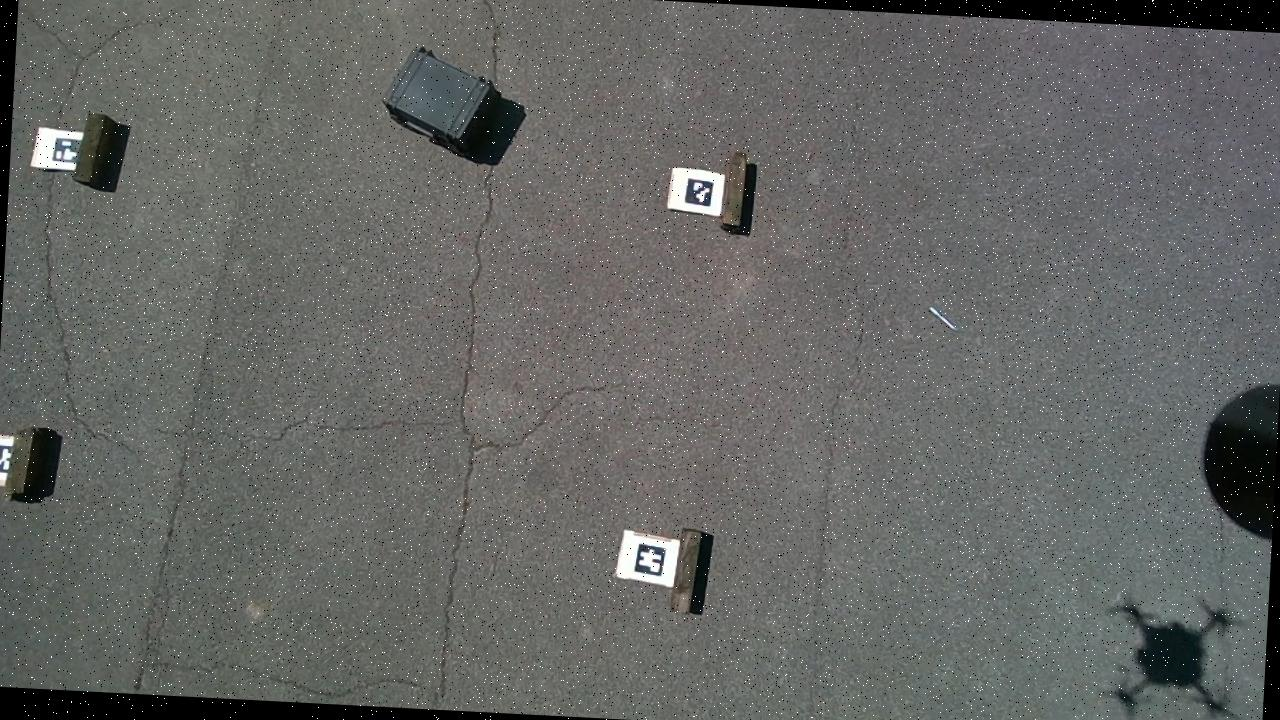probes: (928, 308, 957, 330)
rako: (379, 46, 527, 168)
